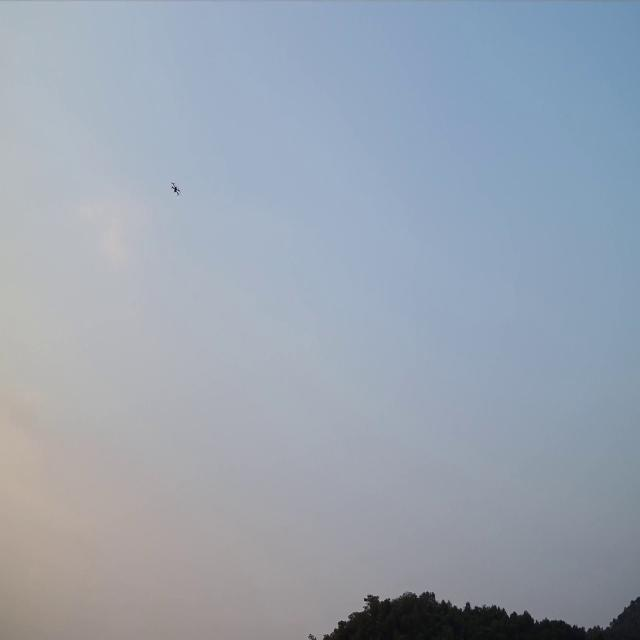UAV: (170, 180, 181, 197)
